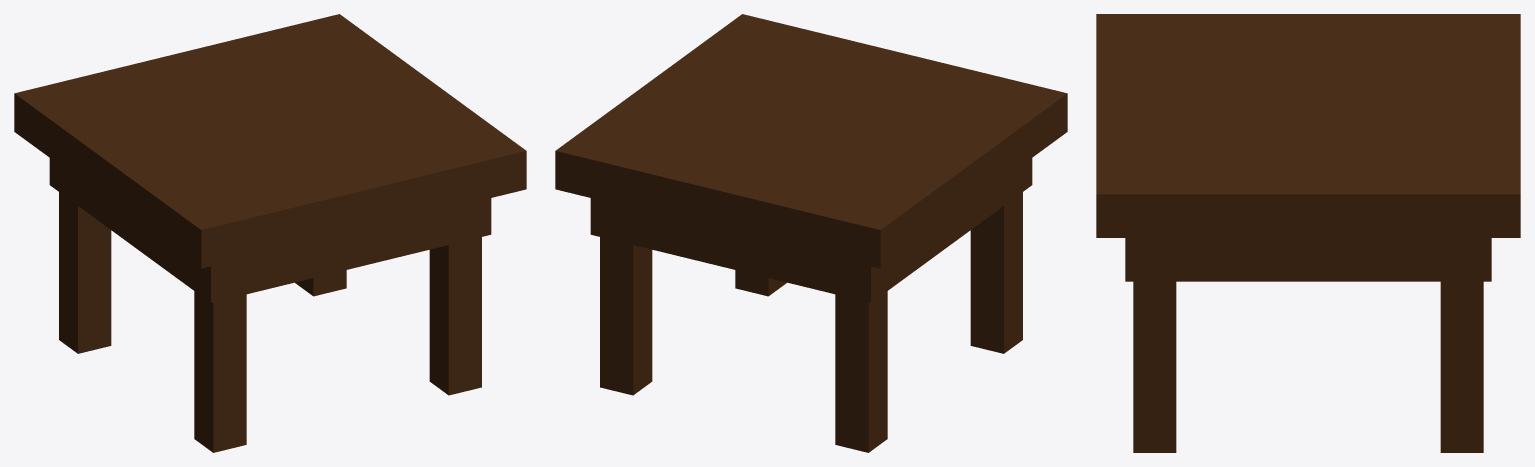
File: HQ_Table.fbx
3 renders of one model, left to right at view 1: azimuth 30°, elevation 25°; view 2: azimuth 150°, elevation 25°; view 3: azimuth 270°, elevation 25°, orthographic. The views are drawn at different scales.
Parts seen in each view (by area): view 1: HQ_Table; view 2: HQ_Table; view 3: HQ_Table.
Boxes of the visible parts, <box> form: HQ_Table: <box>14,14,526,452</box>; HQ_Table: <box>555,14,1067,452</box>; HQ_Table: <box>1096,14,1520,452</box>.
Size of the model in its own units: 3.75 by 2.66 by 3.73.
